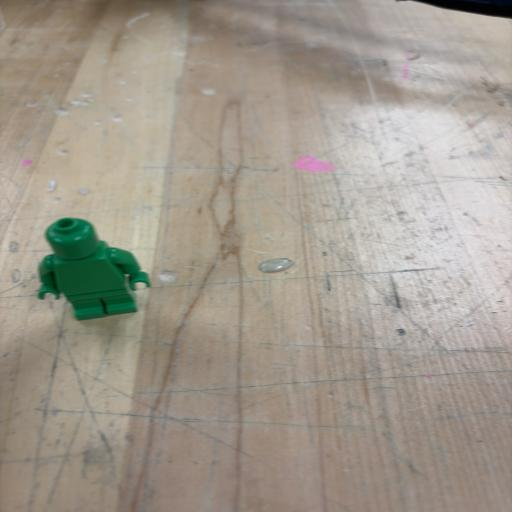Green-Lego: (38, 218, 150, 320)
